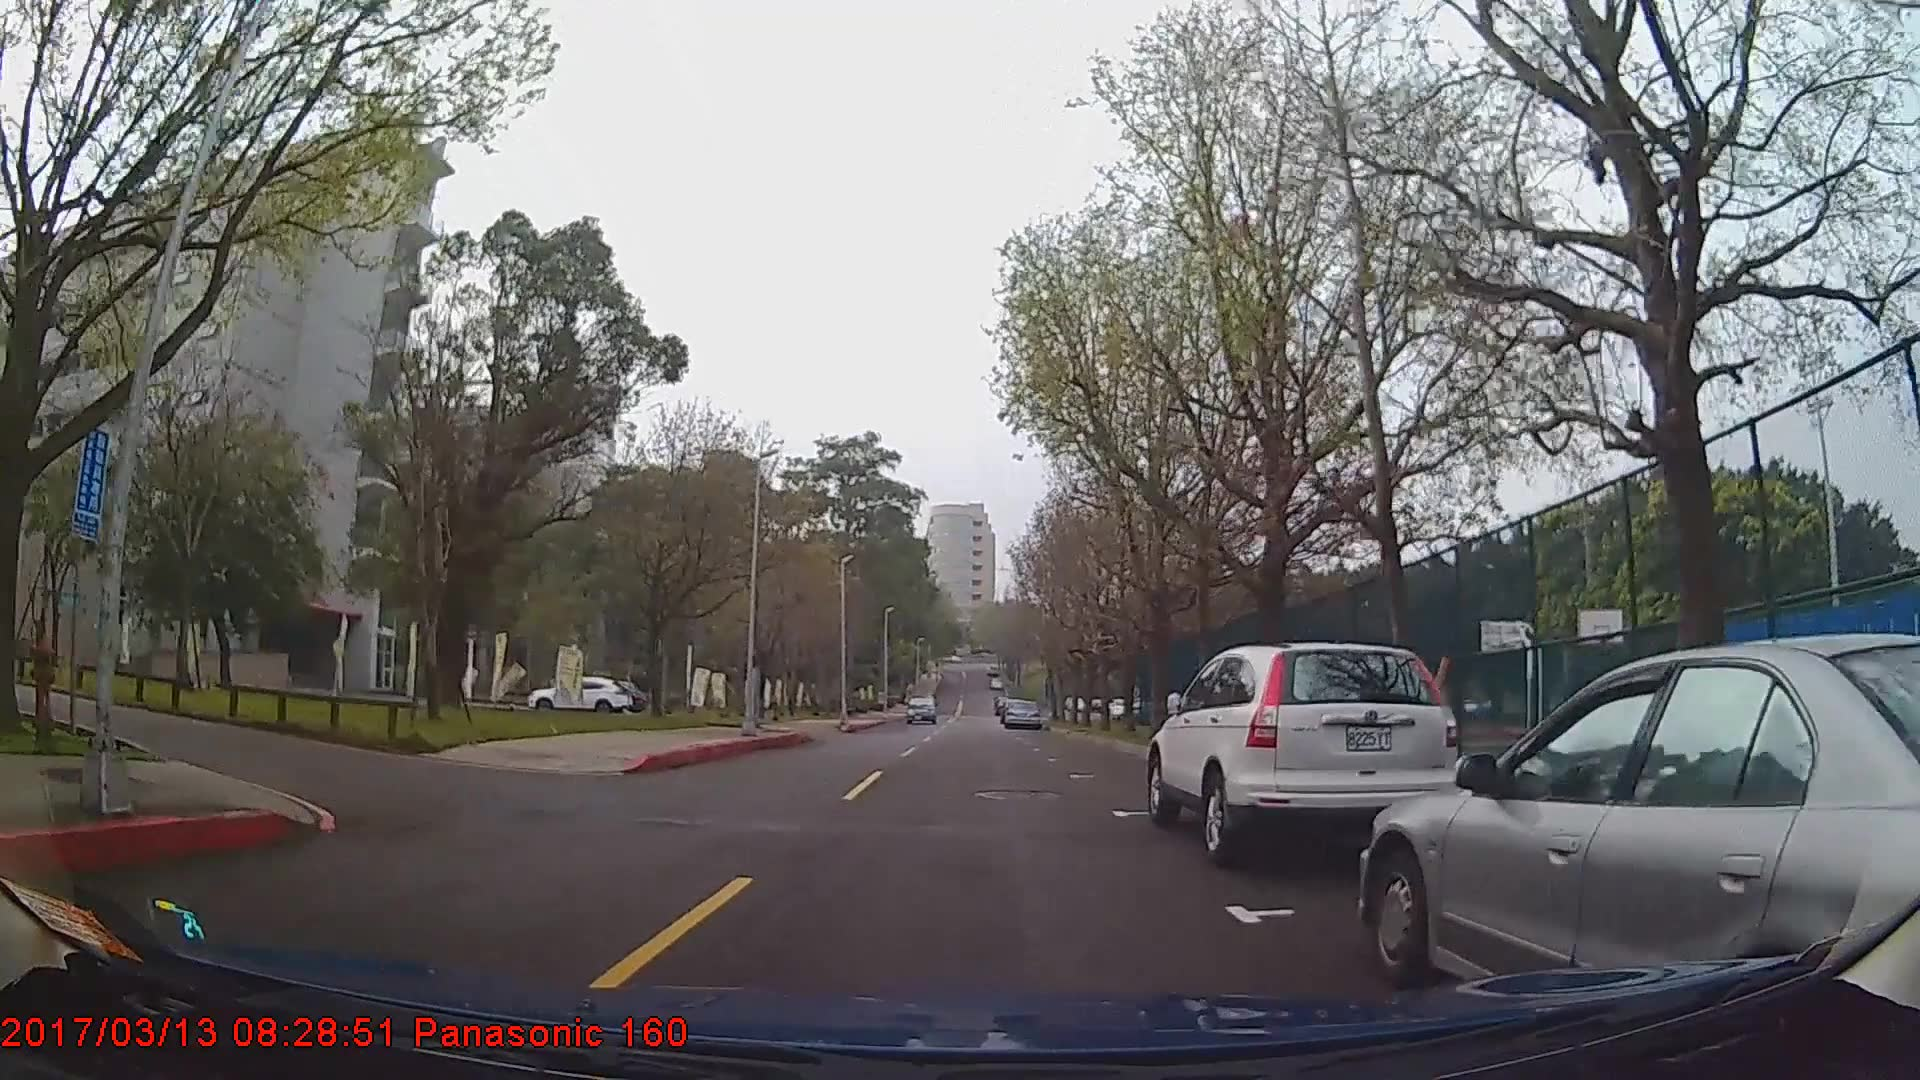vehicle: (1360, 628, 1920, 1005), (1145, 644, 1465, 868), (524, 675, 632, 713), (1001, 698, 1040, 729), (901, 691, 938, 723)
